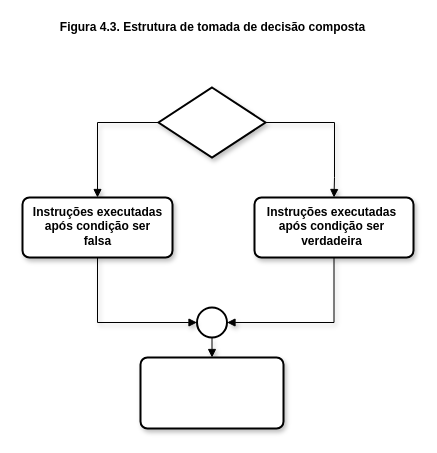
This 437x453 diagram has some shape labels left out. Each missing label, with the centre of its shape:
"Condição" goes at point 212,123.
"Instruções executas após condição ser falsa ou após ser verdadeira" goes at point 212,394.
